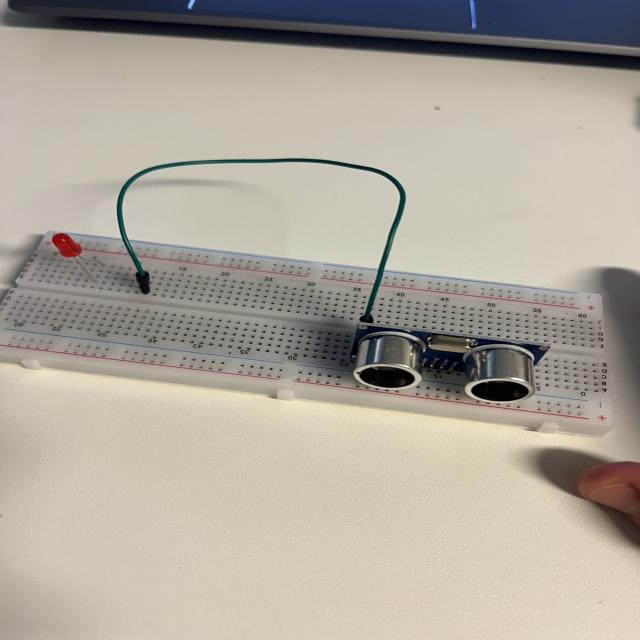BreadBoard: (0, 227, 604, 441)
REDLed: (47, 232, 112, 291)
UltrasoneSensor: (340, 326, 558, 410)
